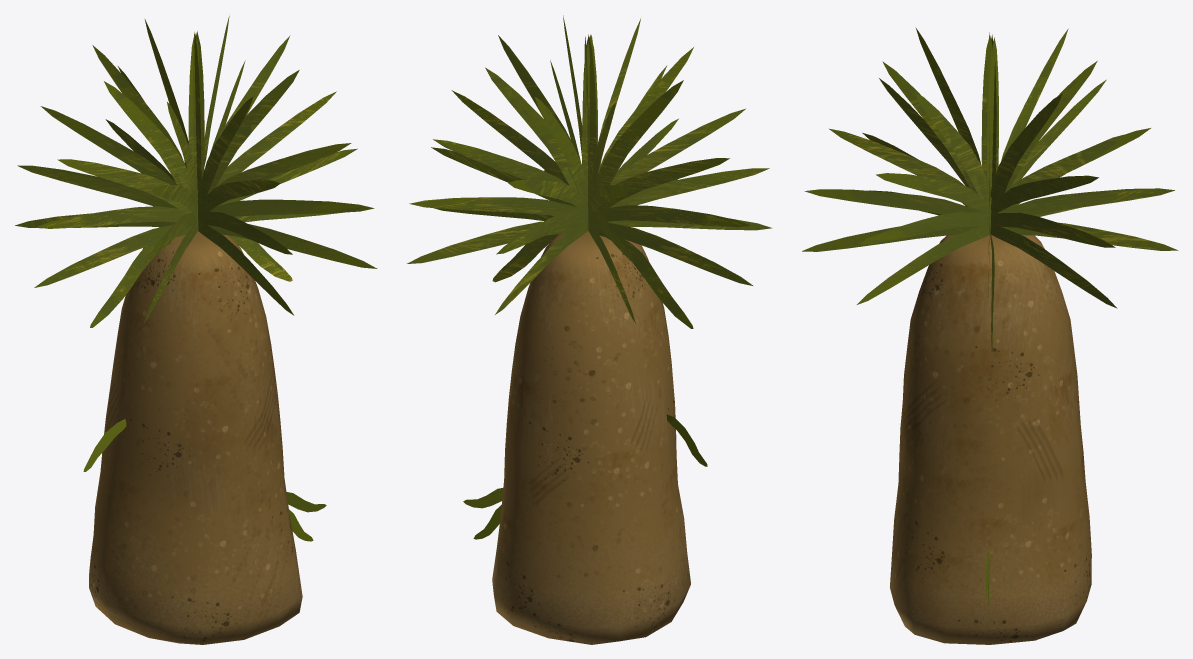
Rendered from SM_Cabbage_Stubby.fbx.
The picture shows the model from 3 angles, left to right: view 1: azimuth 30°, elevation 25°; view 2: azimuth 150°, elevation 25°; view 3: azimuth 270°, elevation 25°; orthographic projection.
Parts seen in each view (by area): view 1: stubby_trunk, stubby_leaves; view 2: stubby_trunk, stubby_leaves; view 3: stubby_trunk, stubby_leaves.
Part boxes in pixels (x1,y1,x2,y2): stubby_trunk: [89, 227, 302, 644]; stubby_leaves: [15, 16, 377, 541]; stubby_trunk: [492, 231, 690, 644]; stubby_leaves: [407, 15, 772, 539]; stubby_trunk: [890, 235, 1091, 644]; stubby_leaves: [802, 27, 1178, 626].
Size of the model in its own units: 128 by 218 by 128.
